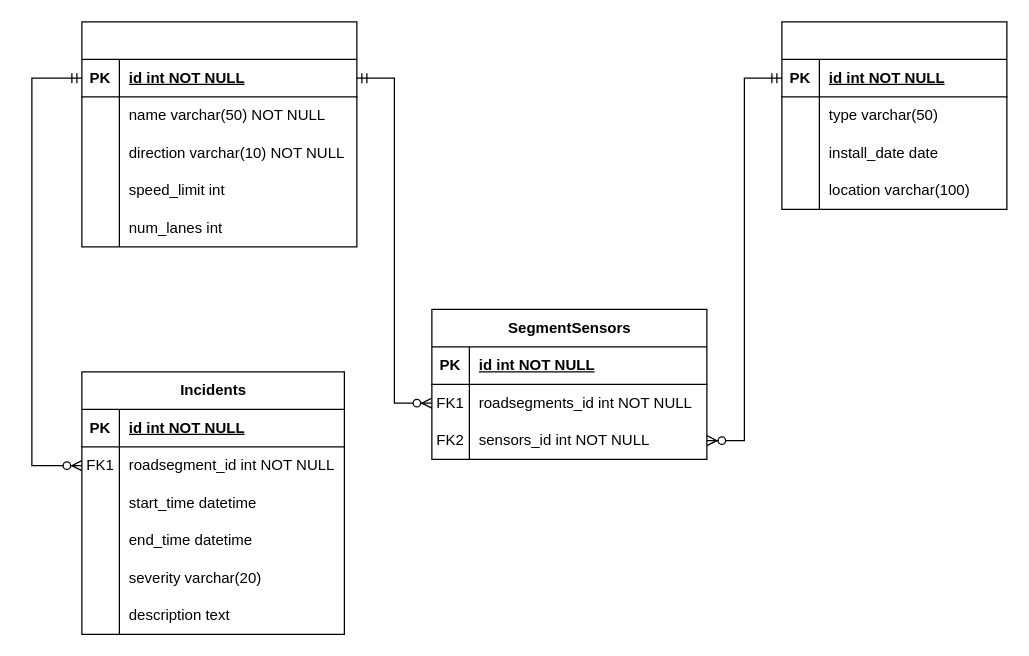
This 1029x656 diagram has some shape labels left out. Here are the shapes that lost their labels. From the top down, the box of each, then its label:
(81, 21, 357, 247): RoadSegments
(781, 21, 1007, 209): Sensors
